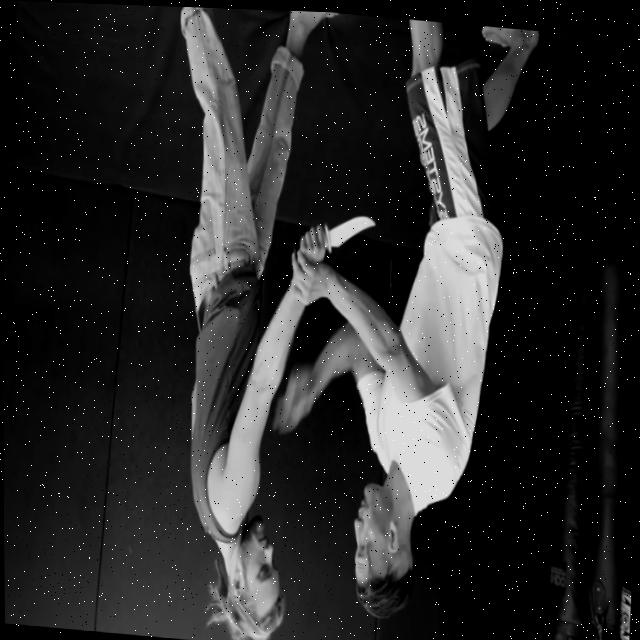knife: (323, 208, 376, 256)
